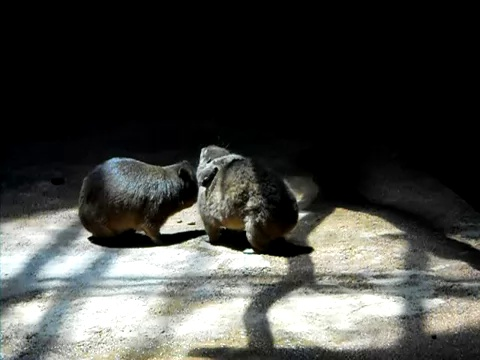Rock Hyrex: (196, 142, 300, 259), (79, 155, 200, 250)
